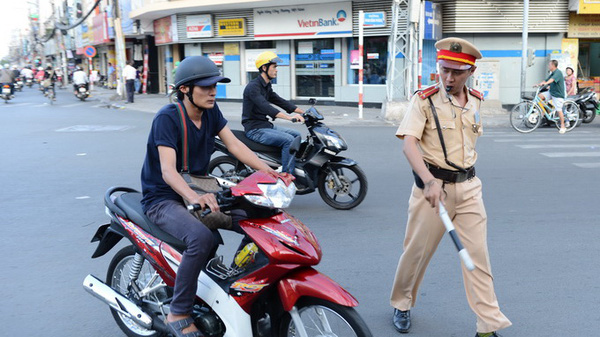police: (389, 38, 514, 337)
